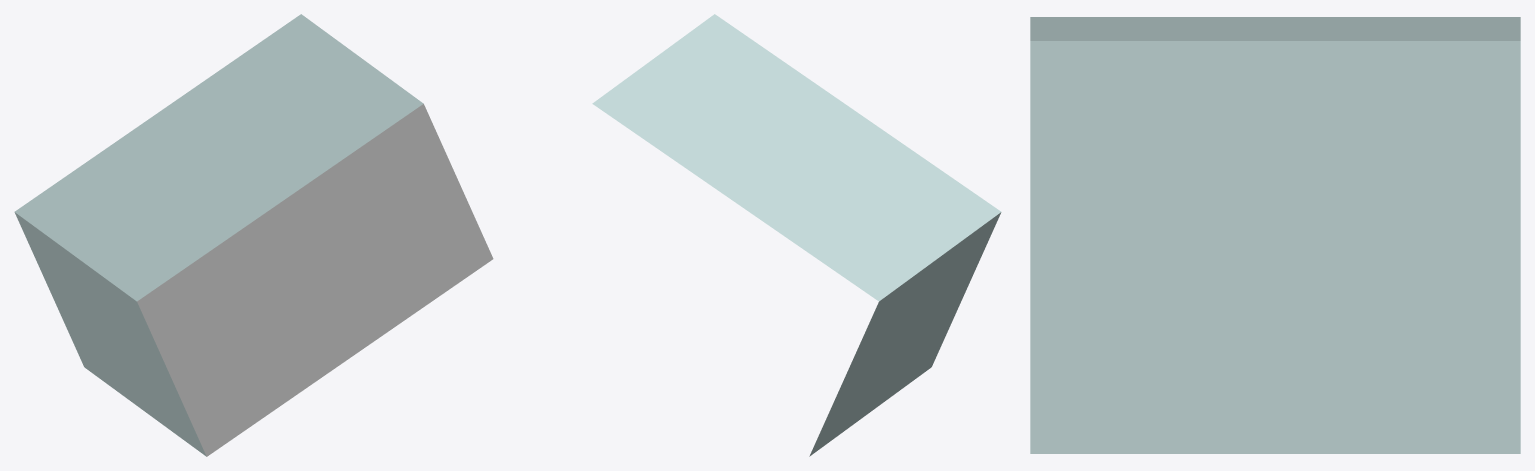
3 views of the same model, side by side, from view 1: azimuth 30°, elevation 25°; view 2: azimuth 150°, elevation 25°; view 3: azimuth 270°, elevation 25° (orthographic). The views are drawn at different scales.
Parts seen in each view (by area): view 1: 0_1_2_1_0_2_1_1_2; view 2: 0_1_2_1_0_2_1_1_2; view 3: 0_1_2_1_0_2_1_1_2.
Boxes of the visible parts, x1,y1,x2,y2 form: 0_1_2_1_0_2_1_1_2: (14,14,493,456); 0_1_2_1_0_2_1_1_2: (592,14,1001,456); 0_1_2_1_0_2_1_1_2: (1030,17,1520,453).
Size of the model in its own units: 5.04 by 4.06 by 3.
